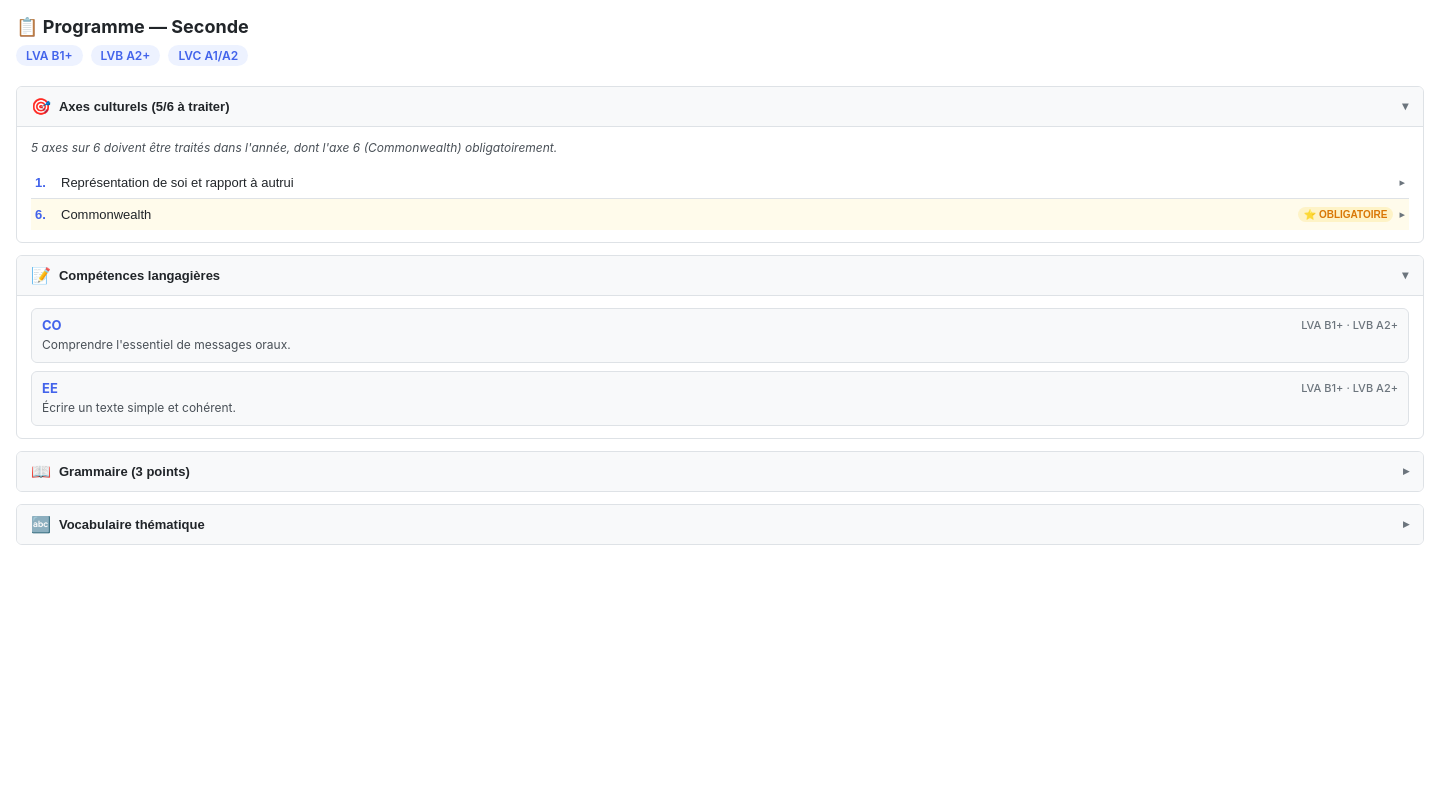
Test: ProgrammePanel › collapses an expanded axe on second click
This screenshot has width=1440, height=810.
Click the button "1. Représentation de soi et rapport à autrui ▸": (177, 182) x1=31 y1=167 x2=1409 y2=198
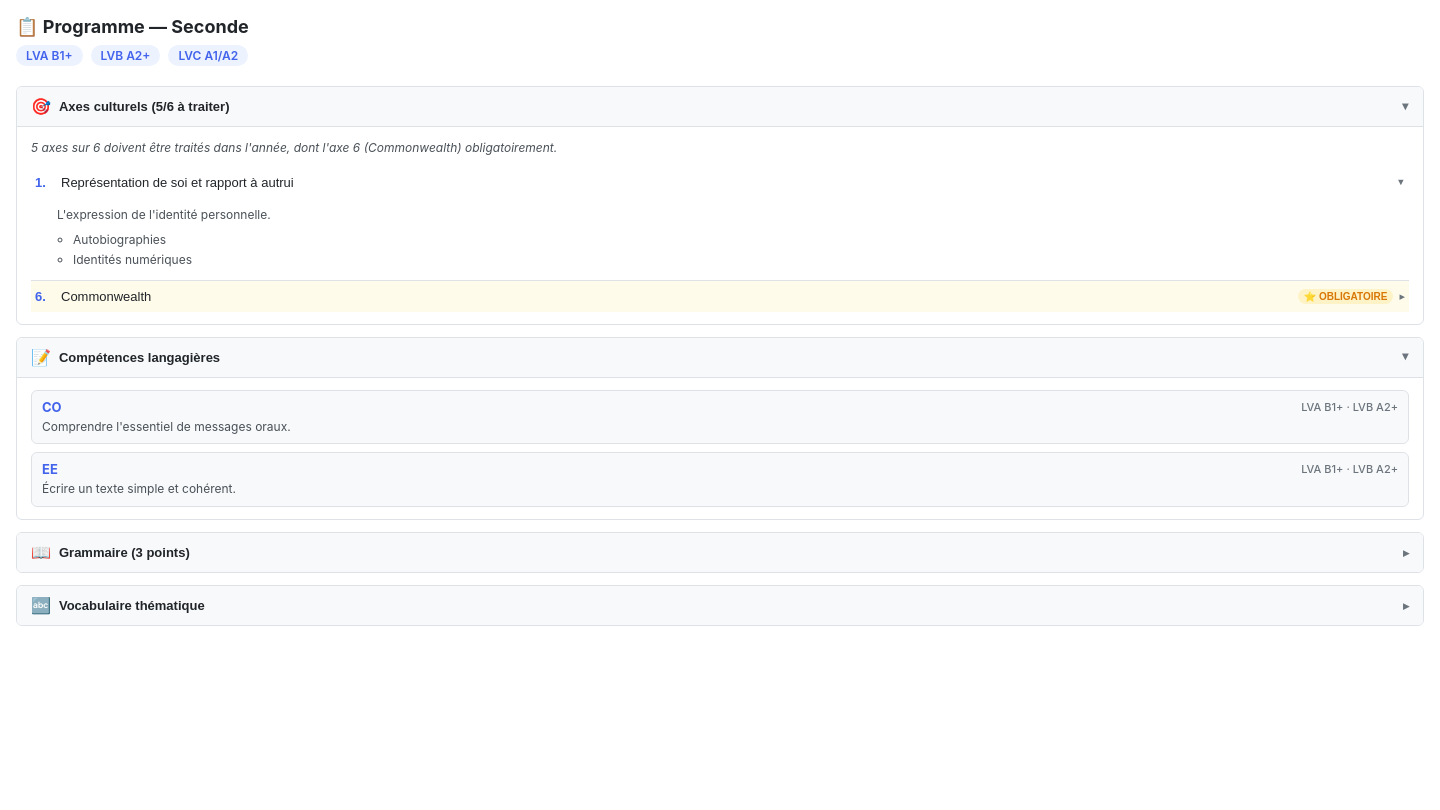
Check: the text "L'expression de l'identité personnelle." is shown, box x1=57 y1=207 x2=271 y2=222
Click the button "1. Représentation de soi et rapport à autrui ▸": (177, 182) x1=31 y1=167 x2=1409 y2=198
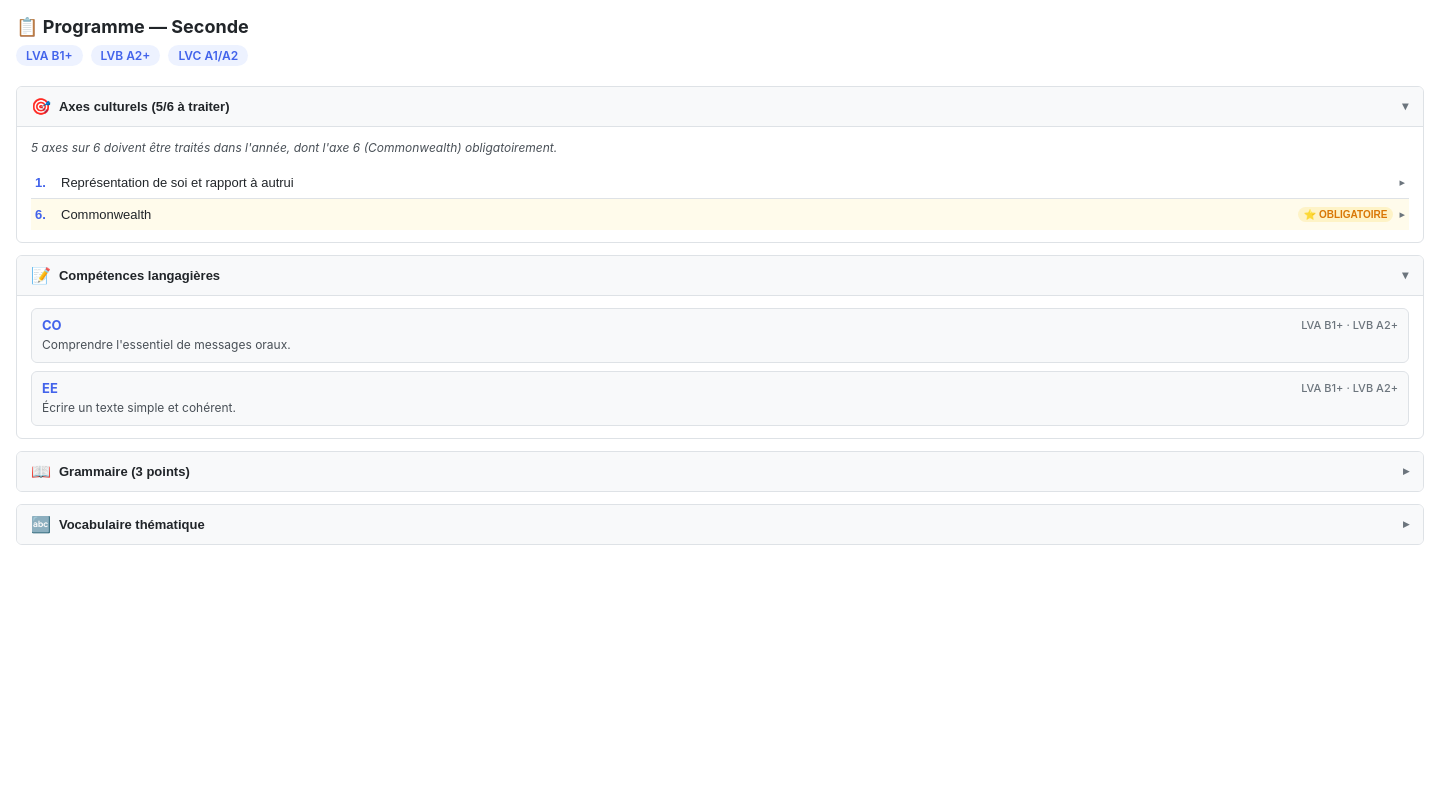
Check: the text "L'expression de l'identité" is gone
